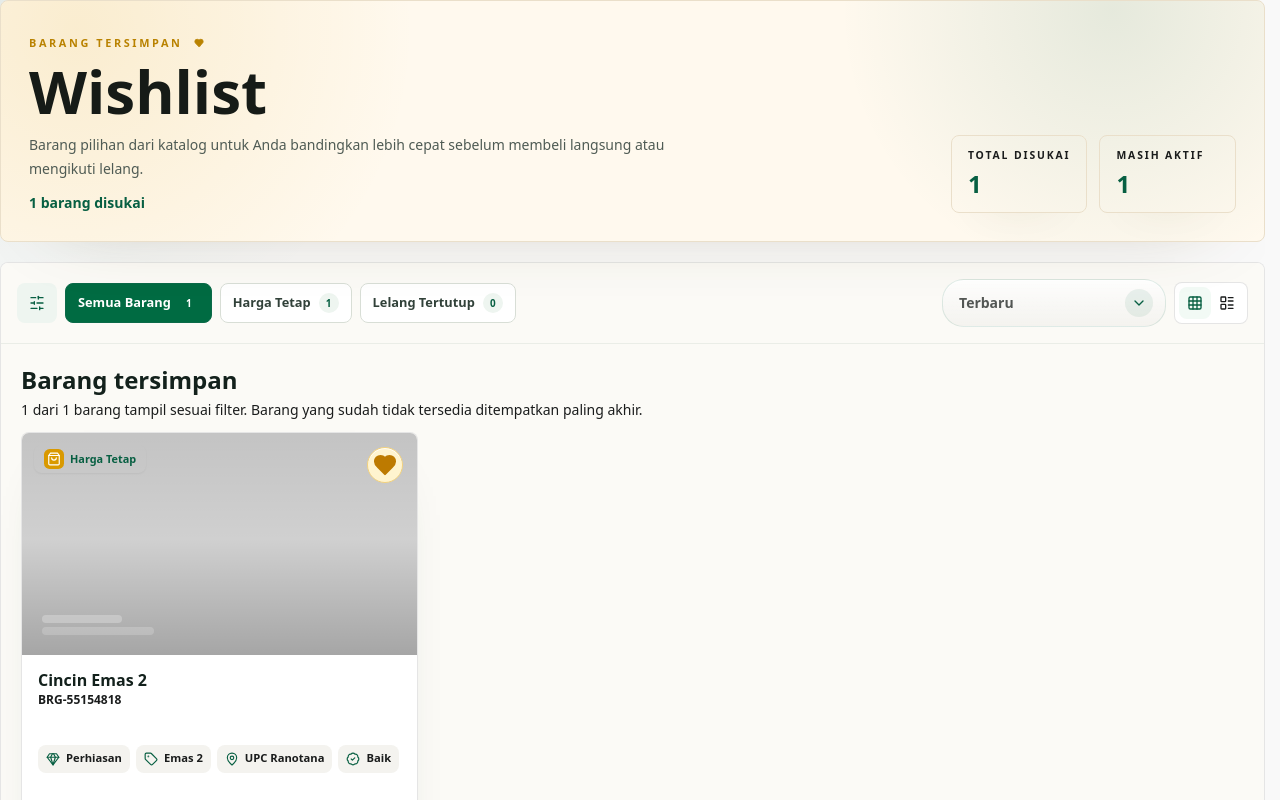
it: WishlistPage › removes a liked item from the wishlist when the heart button is clicked
The image size is (1280, 800).
Step 1. Click the button named "hapus suka cincin emas 2" → [385, 465], box top-left (367, 447), bottom-right (403, 483)
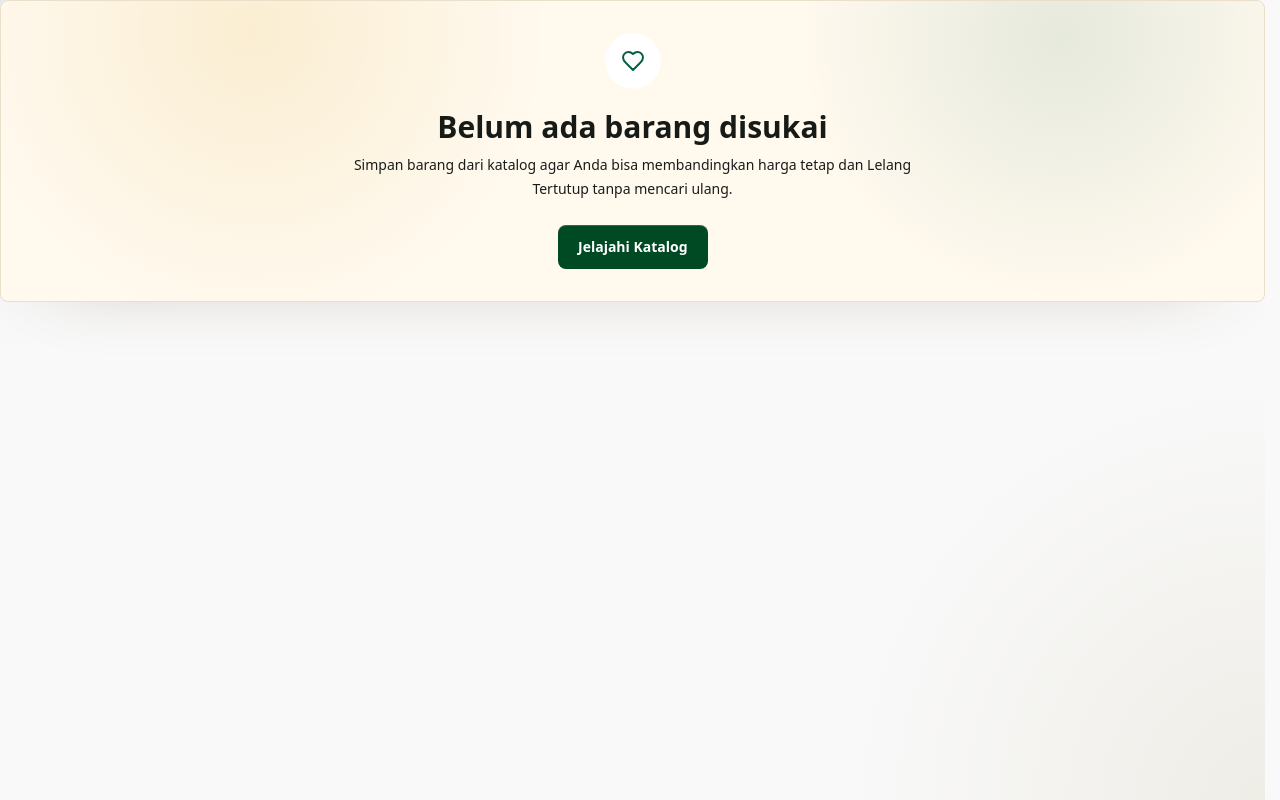
Result: the heading "Cincin Emas 2" is gone
